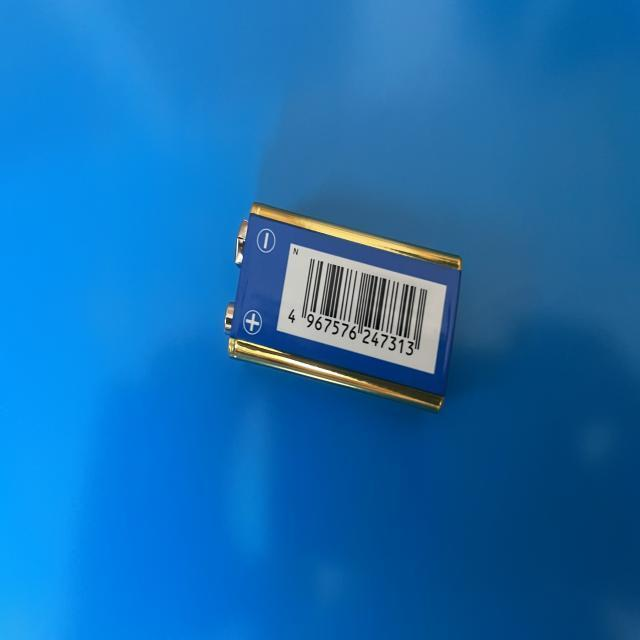9V: (224, 199, 461, 414)
